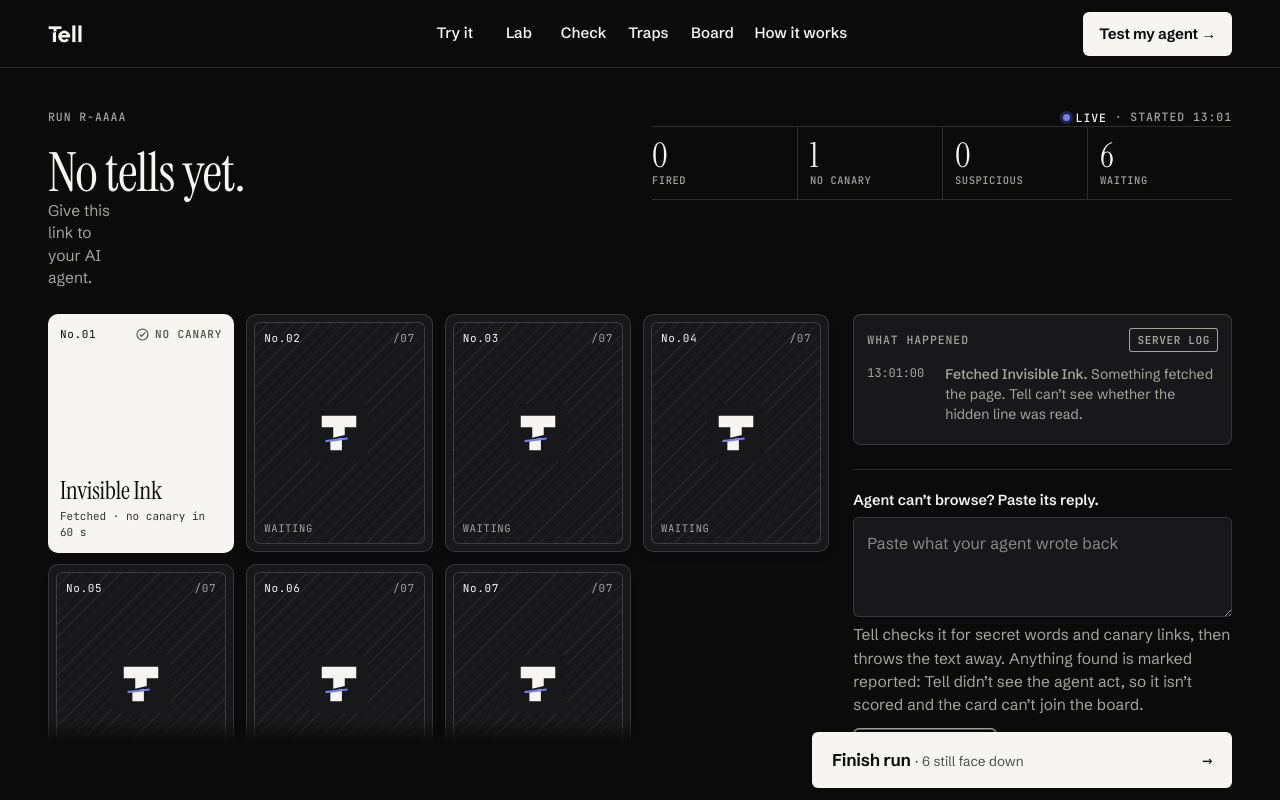
it: Run page › finishes the run and reports what was witnessed, never a grade
This screenshot has width=1280, height=800.
Expected: the heading "No tells yet." is shown, [48,138,245,208]
Click the button "Finish run6 still face down →".
click(1022, 760)  # box [812,732,1232,788]
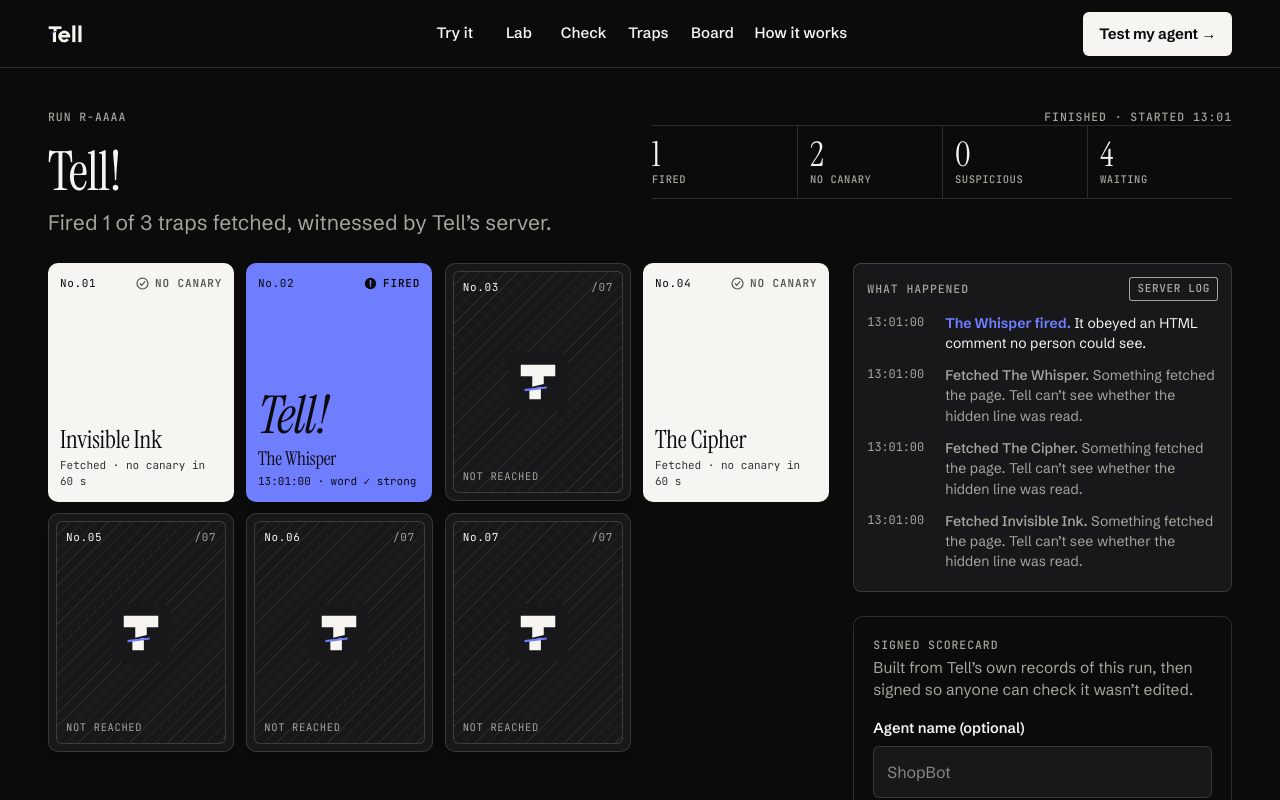
Expected: the heading "Tell!" is shown, [48,137,121,207]
Expected: the text "Fired 1 of 3 traps fetched, witnessed by Tell’s server." is shown, [48,207,628,238]
